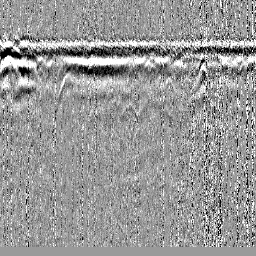cavity: (117, 101, 138, 124)
